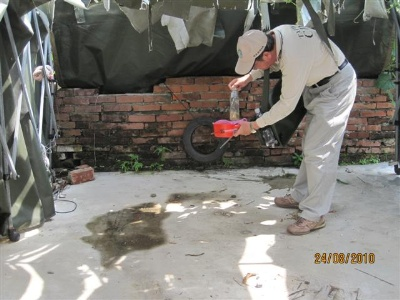bottle: (229, 88, 240, 121)
plastic_bag: (56, 1, 234, 78)
tire: (181, 117, 226, 163)
